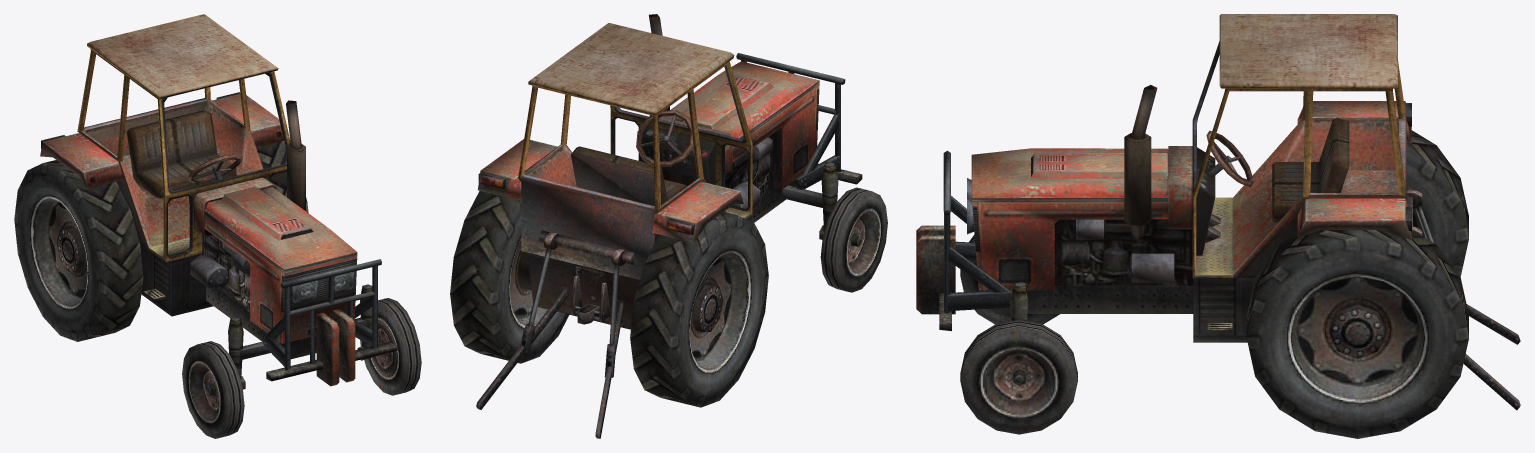
Rendered from Tractor (Low Poly).FBX.
The picture shows the model from 3 angles, left to right: view 1: azimuth 30°, elevation 25°; view 2: azimuth 150°, elevation 25°; view 3: azimuth 270°, elevation 25°; orthographic projection. The views are drawn at different scales.
Visible parts, largest first — view 1: default; view 2: default; view 3: default.
Part boxes in pixels (<box>): default: <box>14,14,421,438</box>; default: <box>450,14,887,438</box>; default: <box>916,14,1520,438</box>.
Bounding box in the file's own units: 4.25 × 5.21 × 8.65.
